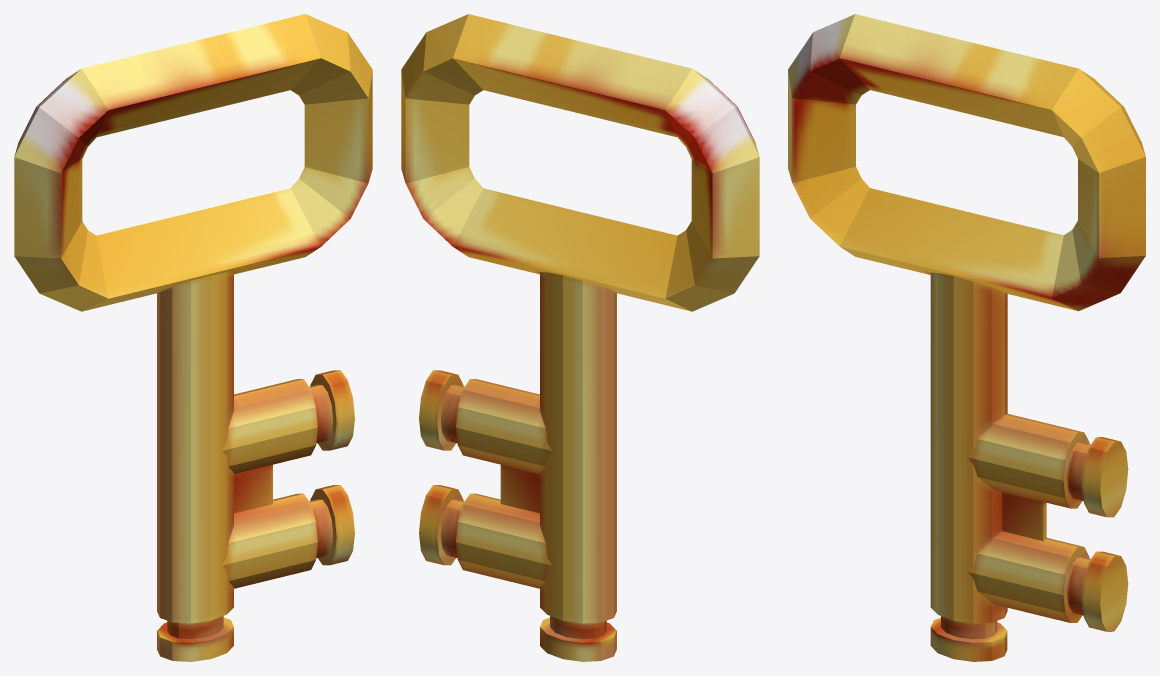
The model's file is Key.fbx.
The picture shows the model from 3 angles, left to right: view 1: azimuth 30°, elevation 25°; view 2: azimuth 150°, elevation 25°; view 3: azimuth 330°, elevation 25°; orthographic projection.
Visible parts, largest first — view 1: Key; view 2: Key; view 3: Key.
Part boxes in pixels (box(x1,y1,x2,y2)): Key: box(14, 14, 372, 661); Key: box(401, 14, 759, 661); Key: box(788, 14, 1145, 661).
Bounding box in the file's own units: 1.57 × 2.53 × 0.3223.
Materials: 1 (1 with a texture image).
